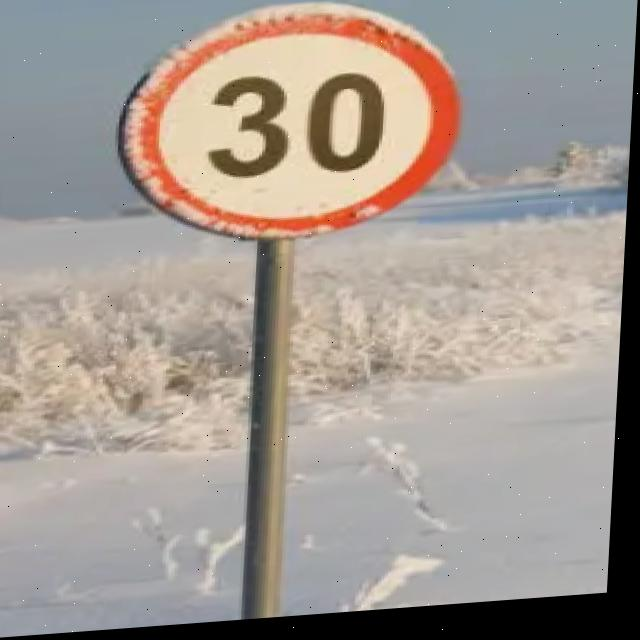Speed limit 30: (110, 1, 473, 258)
